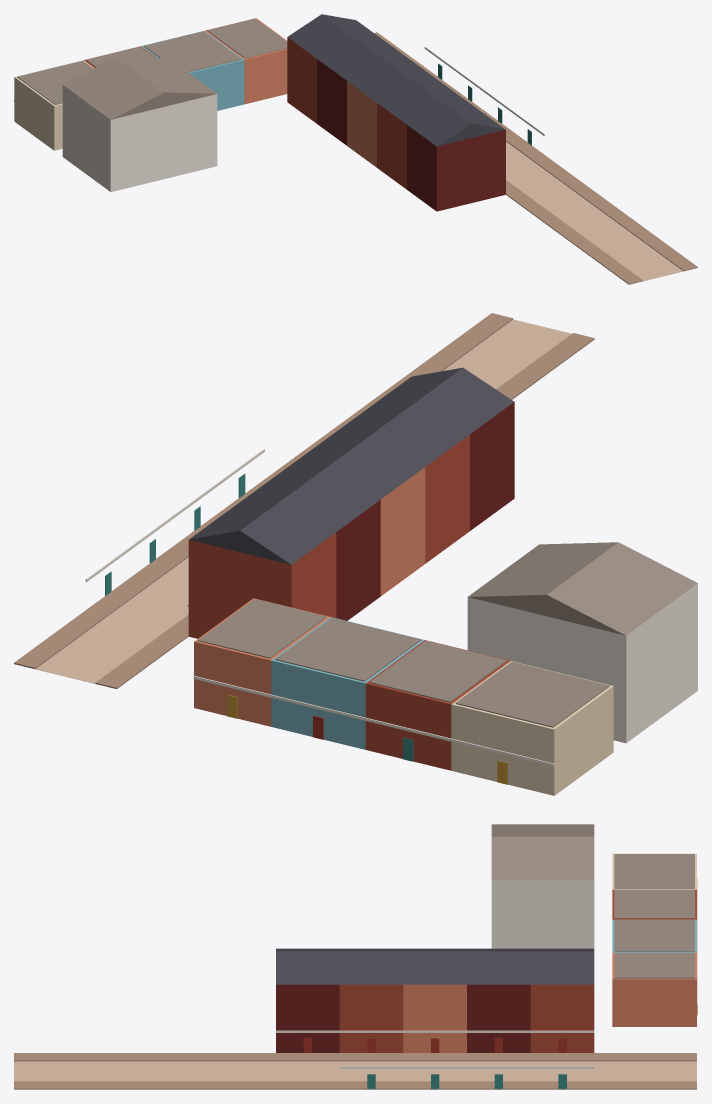
Rendered from chunk_1_1.glb.
3 views of the same model, one above another, from view 1: azimuth 30°, elevation 25°; view 2: azimuth 150°, elevation 25°; view 3: azimuth 270°, elevation 25° (orthographic). The views are drawn at different scales.
Visible parts, largest first — view 1: chunk_1_1__building, chunk_1_1__ground; view 2: chunk_1_1__building, chunk_1_1__ground; view 3: chunk_1_1__building, chunk_1_1__ground.
Part boxes in pixels (left/top/right/bottom): chunk_1_1__building: left=14, top=14, right=544, bottom=211; chunk_1_1__ground: left=374, top=32, right=697, bottom=284; chunk_1_1__building: left=85, top=367, right=697, bottom=795; chunk_1_1__ground: left=14, top=313, right=594, bottom=688; chunk_1_1__building: left=276, top=824, right=697, bottom=1089; chunk_1_1__ground: left=14, top=1053, right=696, bottom=1089.
Bounding box in the file's own units: 63 × 14.4 × 96.61.
